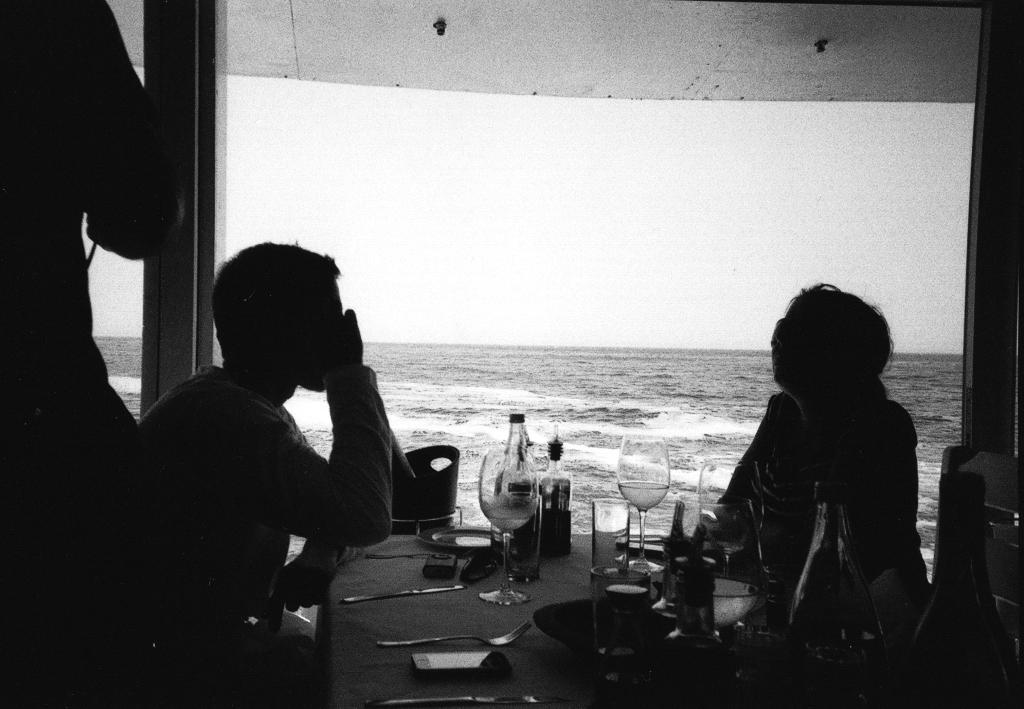Person: (135, 240, 414, 709), (716, 281, 929, 582)
